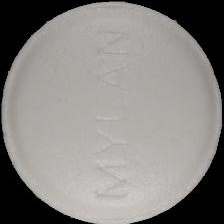0378-0330: (0, 0, 224, 224)
